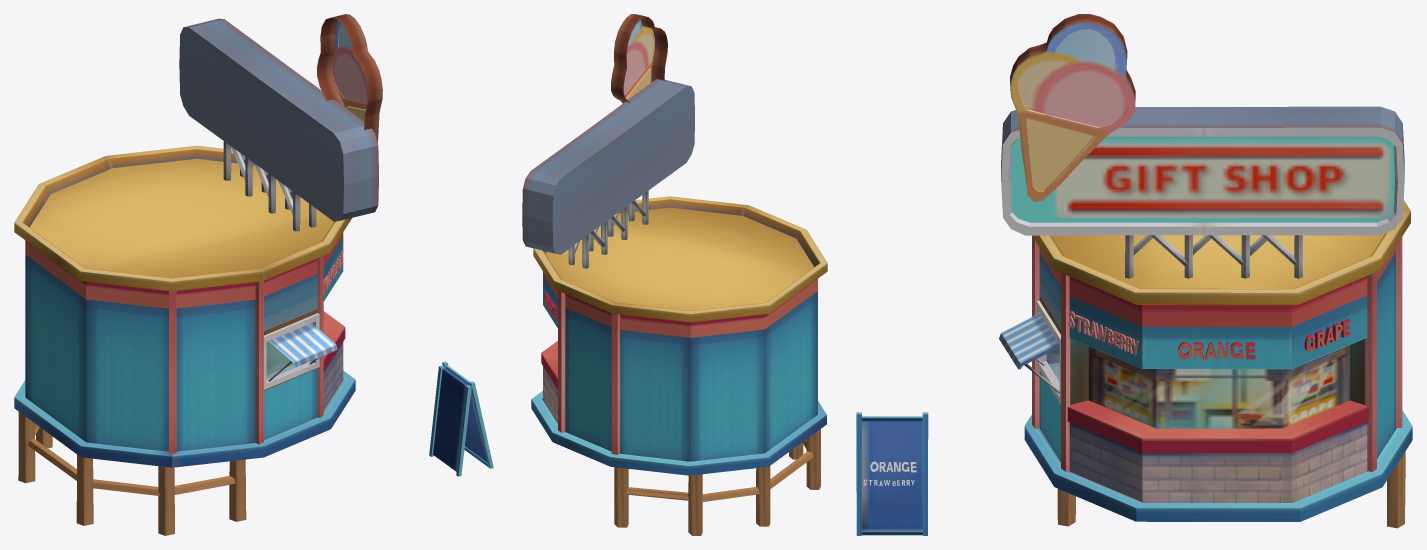
File: Store1.fbx
3 views of the same model, side by side, from view 1: azimuth 30°, elevation 25°; view 2: azimuth 150°, elevation 25°; view 3: azimuth 270°, elevation 25° (orthographic). The views are drawn at different scales.
Visible parts, largest first — view 1: summer_ice; view 2: summer_ice; view 3: summer_ice.
Boxes of the visible parts, box(x1,y1,x2,y2) form: summer_ice: box(14, 14, 493, 535); summer_ice: box(522, 14, 827, 535); summer_ice: box(856, 14, 1412, 535).
Bounding box in the file's own units: 363 × 541 × 477.
